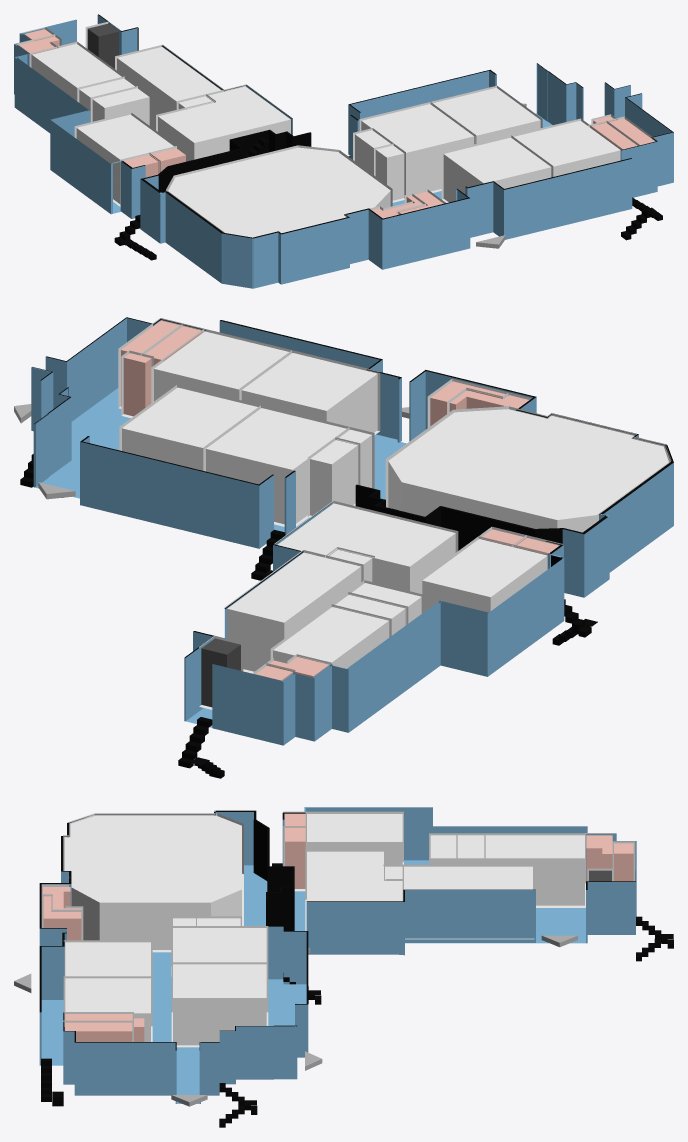
3 views of the same model, one above another, from view 1: azimuth 30°, elevation 25°; view 2: azimuth 150°, elevation 25°; view 3: azimuth 270°, elevation 25° (orthographic). The views are drawn at different scales.
Parts seen in each view (by area): view 1: object, room_1_1_1, room_1_1_11, room_1_1_10, room_1_1_2, room_1_1_13, room_1_1_9, room_1_1_3, room_1_1_12, room_1_1_14, room_1_1_7, room_1_1_6 (+12 smaller); view 2: object, room_1_1_1, room_1_1_11, room_1_1_13, room_1_1_10, room_1_1_2, room_1_1_9, room_1_1_12, room_1_1_3, room_1_1_14, room_1_1_8, トイレ_1_1_1 (+13 smaller); view 3: object, room_1_1_1, room_1_1_9, room_1_1_14, room_1_1_11, room_1_1_12, room_1_1_10, room_1_1_3, room_1_1_13, room_1_1_2, トイレ_1_1_3, トイレ_1_1_4 (+15 smaller).
Part boxes in pixels (box(x1,y1,x2,y2)): object: box(14, 14, 673, 288); room_1_1_1: box(168, 147, 390, 237); room_1_1_11: box(158, 86, 290, 160); room_1_1_10: box(361, 104, 474, 194); room_1_1_2: box(443, 137, 551, 202); room_1_1_13: box(117, 47, 222, 130); room_1_1_9: box(431, 88, 540, 144); room_1_1_3: box(514, 120, 620, 176); room_1_1_12: box(76, 114, 175, 203); room_1_1_14: box(32, 44, 123, 102); room_1_1_7: box(92, 88, 149, 125); room_1_1_6: box(376, 145, 404, 200); object: box(31, 317, 673, 745); room_1_1_1: box(388, 409, 668, 532); room_1_1_11: box(277, 503, 455, 593); room_1_1_13: box(227, 552, 360, 671); room_1_1_10: box(206, 408, 346, 524); room_1_1_2: box(241, 353, 377, 432); room_1_1_9: box(122, 387, 259, 471); room_1_1_12: box(422, 539, 547, 612); room_1_1_3: box(154, 331, 288, 401); room_1_1_14: box(273, 607, 388, 668); room_1_1_8: box(310, 440, 357, 515); トイレ_1_1_1: box(123, 353, 151, 416); object: box(39, 807, 636, 1103); room_1_1_1: box(64, 815, 241, 949); room_1_1_9: box(173, 964, 266, 1045); room_1_1_14: box(485, 835, 584, 905); room_1_1_11: box(307, 851, 402, 901); room_1_1_12: box(307, 814, 402, 864); room_1_1_10: box(173, 928, 266, 964); room_1_1_3: box(65, 978, 150, 1041); room_1_1_13: box(404, 866, 532, 889); room_1_1_2: box(65, 942, 150, 976); トイレ_1_1_3: box(65, 1022, 132, 1041); トイレ_1_1_4: box(285, 828, 305, 888).
Bounding box in the file's own units: 2.34 × 0.3922 × 2.54.
